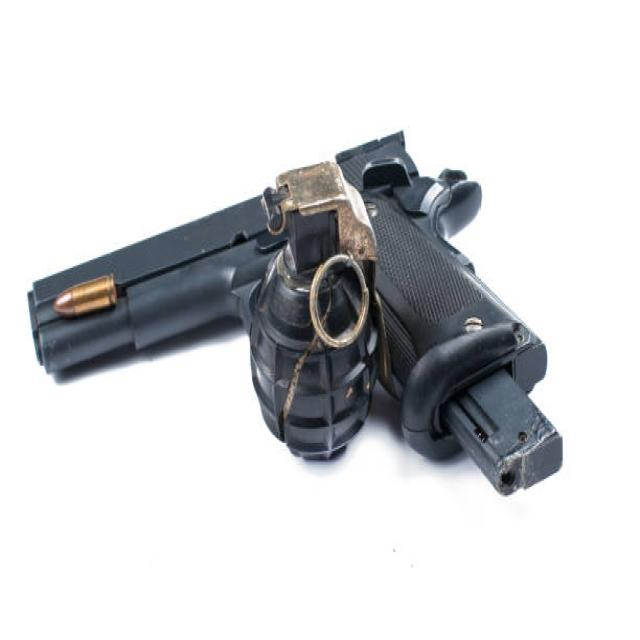grenade: (245, 161, 384, 472)
